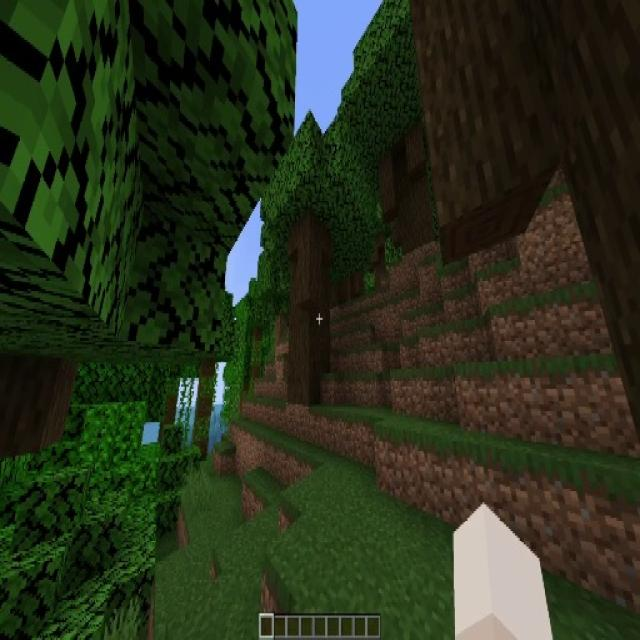dark_oak: (346, 0, 458, 252), (269, 119, 369, 400)
dark_oak_log: (423, 0, 640, 238), (287, 232, 330, 401), (381, 134, 430, 236)
jungle_log: (190, 376, 217, 457)
